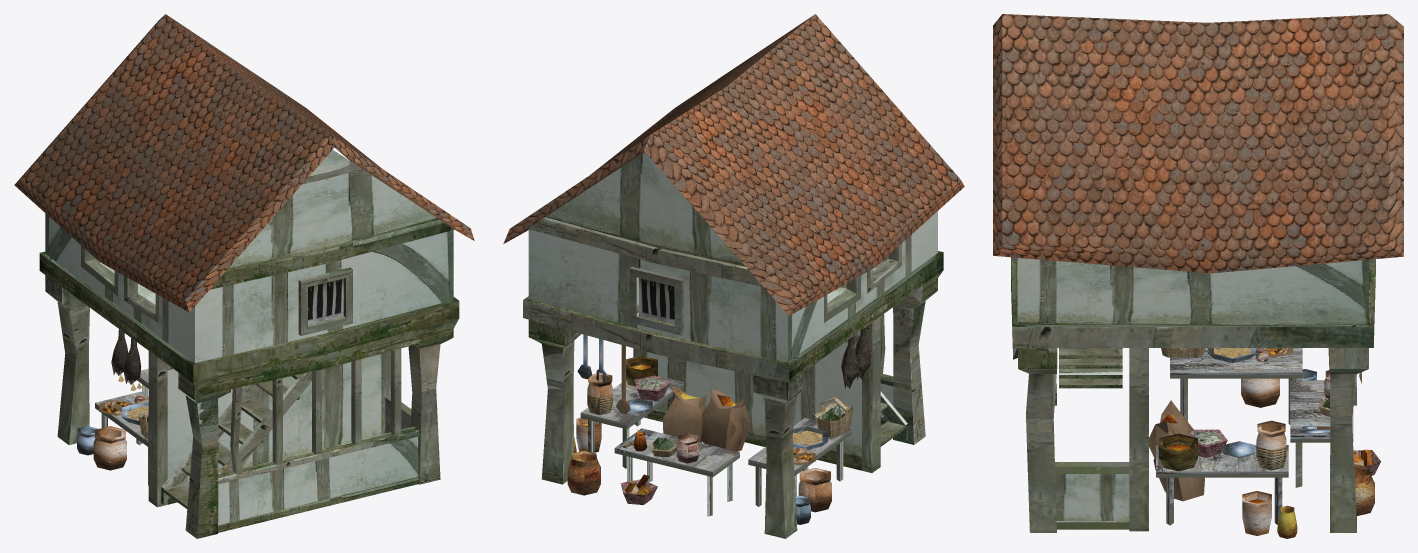
File: building_market.glb
3 views of the same model, side by side, from view 1: azimuth 30°, elevation 25°; view 2: azimuth 150°, elevation 25°; view 3: azimuth 270°, elevation 25° (orthographic). The views are drawn at different scales.
Visible parts, largest first — view 1: building_market; view 2: building_market; view 3: building_market.
Boxes of the visible parts, x1=… form: building_market: x1=14, y1=14, x2=474, y2=538; building_market: x1=503, y1=14, x2=964, y2=538; building_market: x1=993, y1=14, x2=1403, y2=538.
Bounding box in the file's own units: 6.14 × 7.92 × 6.54.
3 materials, 3 textured.
